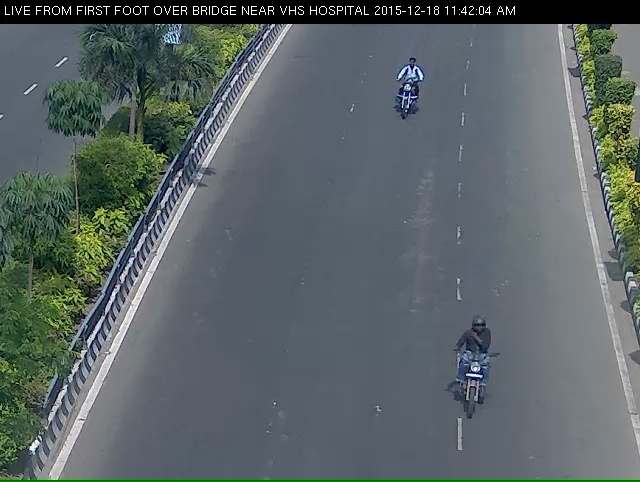Person: (449, 336, 498, 452), (386, 61, 419, 127)
